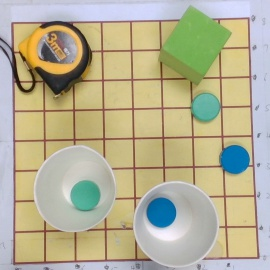blue: (220, 144, 250, 174)
cup_blue: (132, 177, 219, 267)
cup_green: (35, 141, 123, 233)
green: (191, 92, 222, 122)
